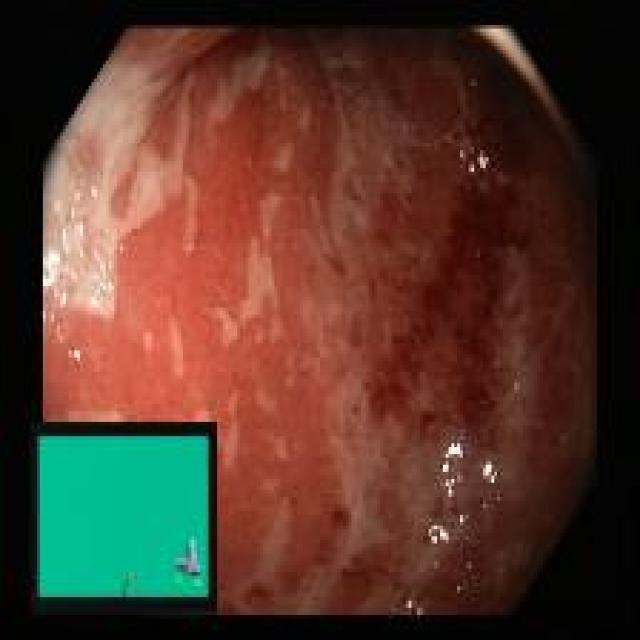ulcerative-colitis: (44, 28, 596, 614)
